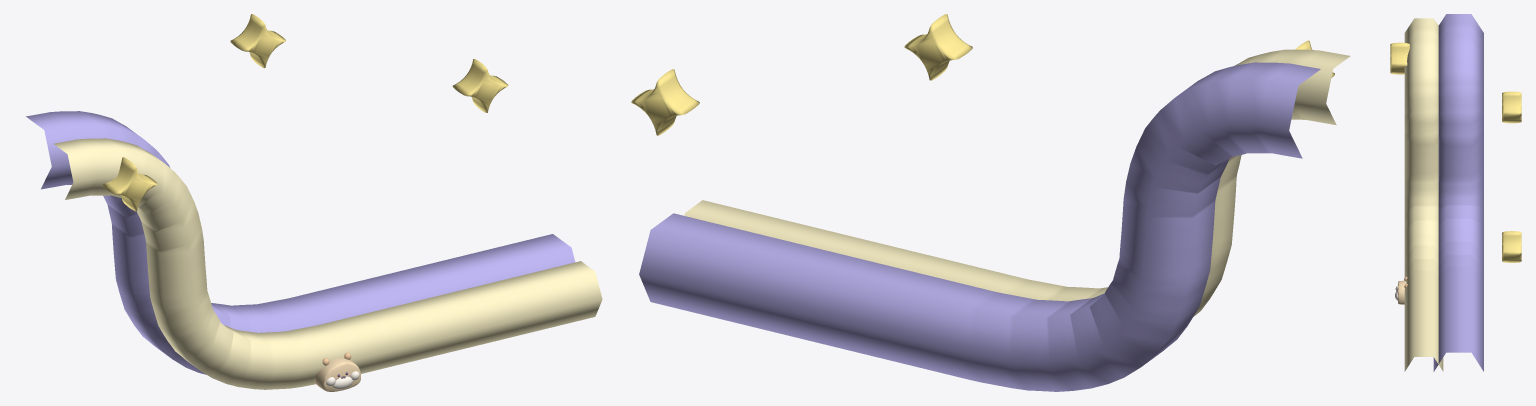
Rendered from decor_6_star.glb.
3 renders of one model, left to right at view 1: azimuth 30°, elevation 25°; view 2: azimuth 150°, elevation 25°; view 3: azimuth 270°, elevation 25°, orthographic. The views are drawn at different scales.
Visible parts, largest first — view 1: decor_6_star; view 2: decor_6_star; view 3: decor_6_star.
Part boxes in pixels (x1,y1,x2,y2): decor_6_star: (26,14,602,391); decor_6_star: (631,14,1350,391); decor_6_star: (1390,14,1521,371).
Bounding box in the file's own units: 18.06 × 10.32 × 5.75.
